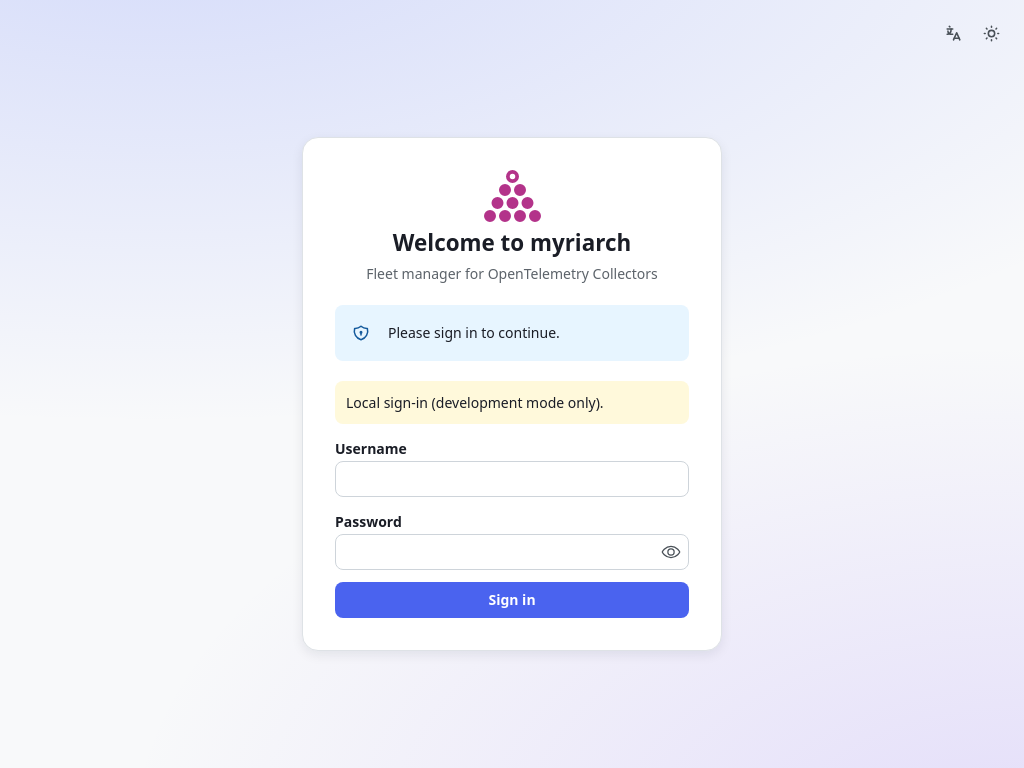
Scenario: authentication › dev login returns to the requested page and CSRF token is sent afterwards
Step 1. Type "operator" into the field labelled "Username" → (512, 479), box [335,461,689,497]
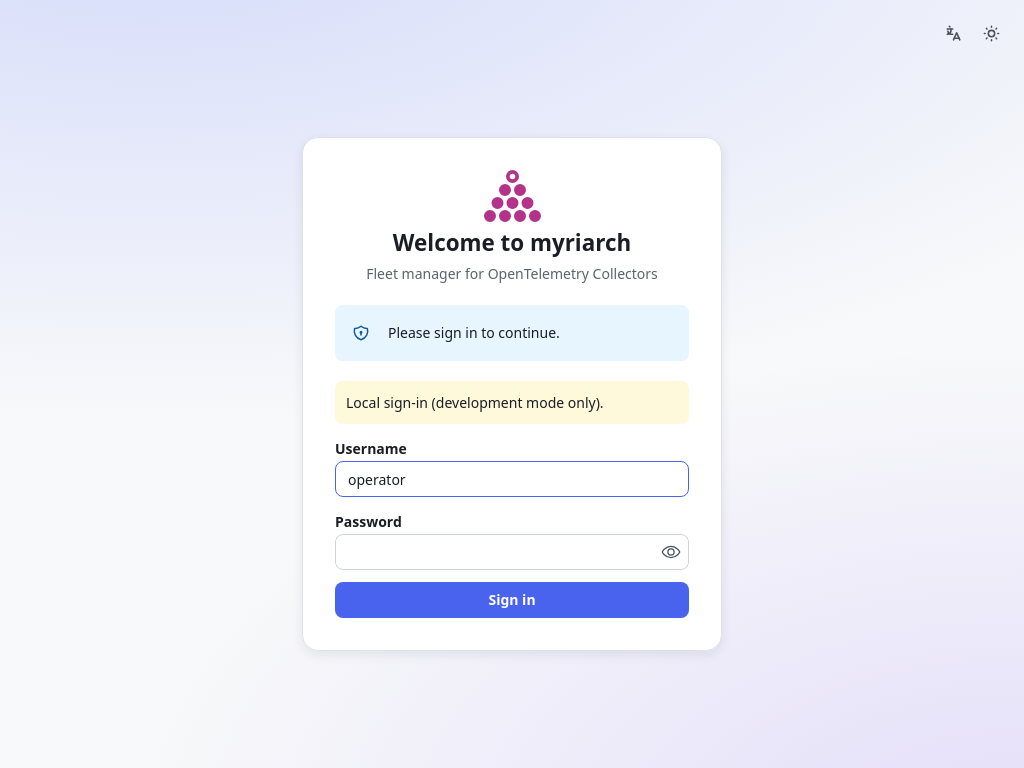
Step 2. Type "secret" into the password field labelled "Password" → (512, 552), box [336,535,688,569]
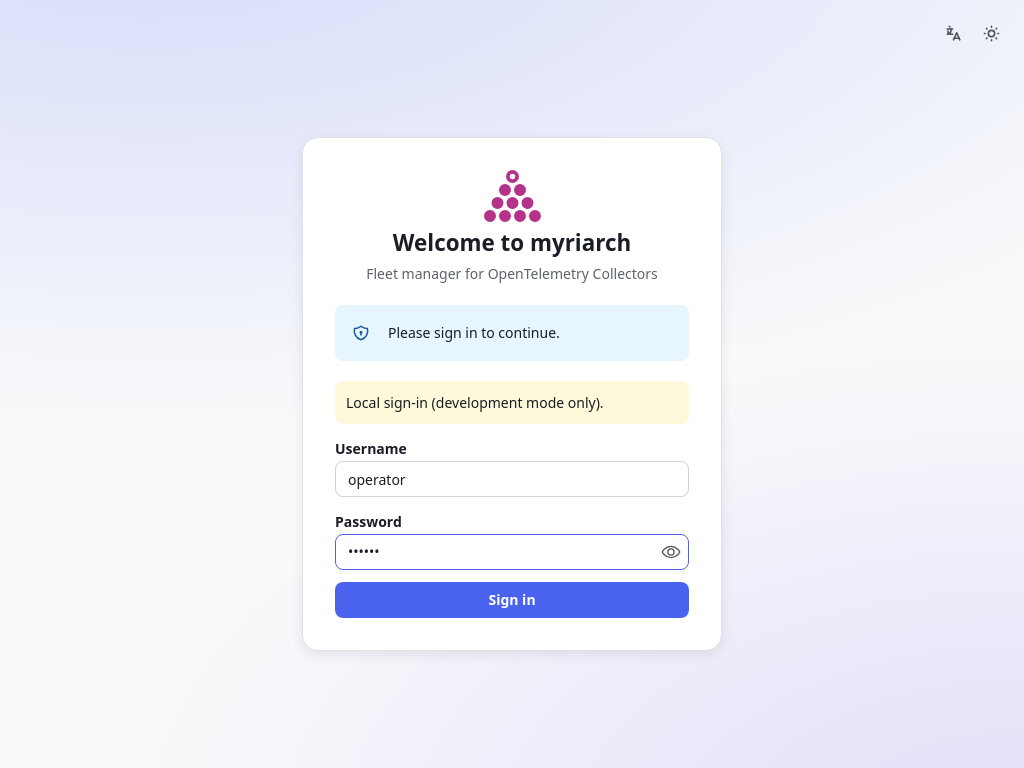
Step 3. Click the button "Sign in" → (512, 600), box [335,582,689,618]
(page scrolled)
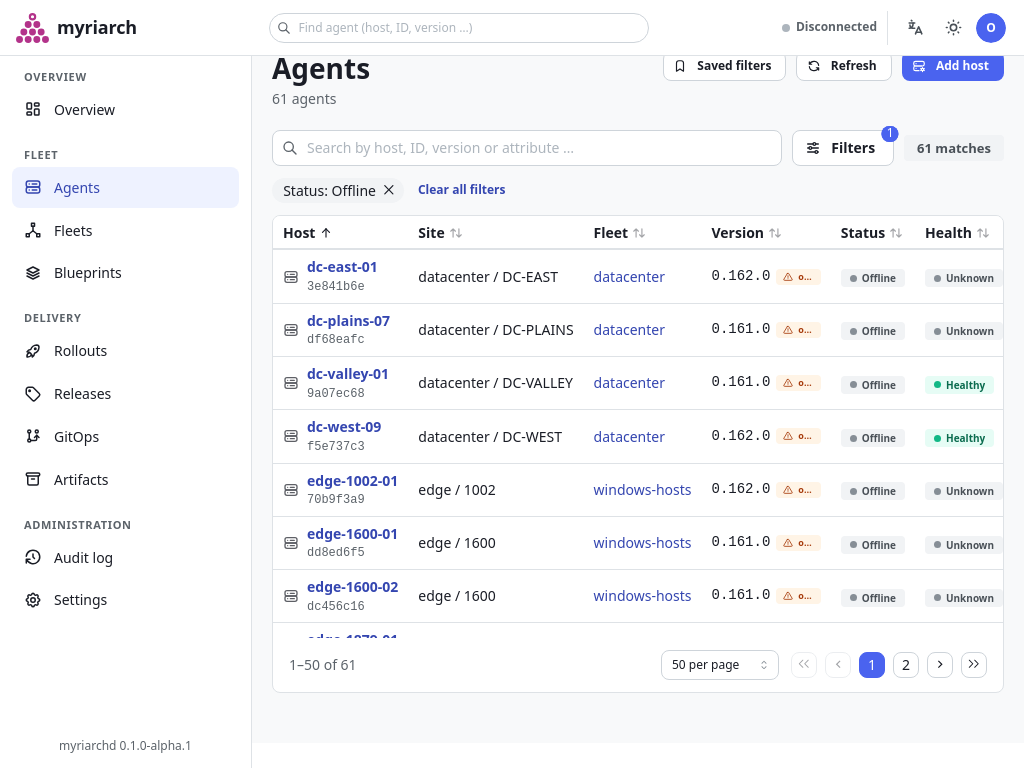
Now the text with test id "location" reads "/agents?status=offline", box [0,744,167,766]
